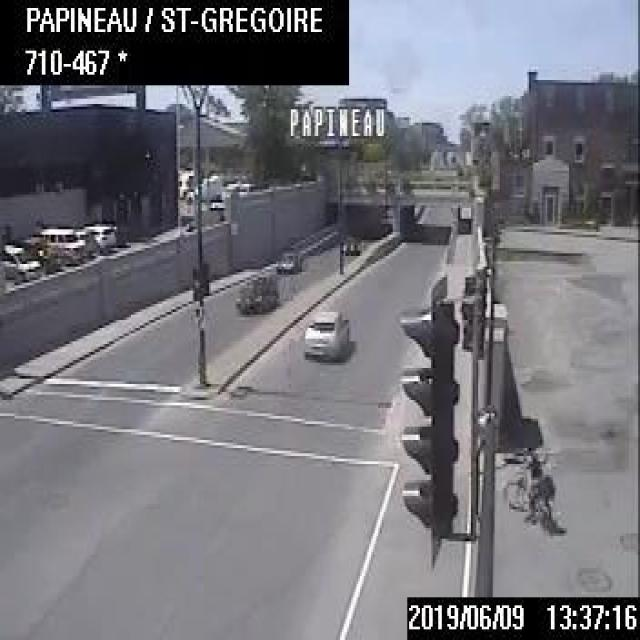cyclist: (506, 445, 561, 529)
vehicle: (302, 307, 351, 360), (0, 238, 45, 284), (231, 268, 275, 314), (40, 224, 84, 260), (85, 219, 119, 250), (274, 241, 303, 273), (342, 232, 360, 253)
